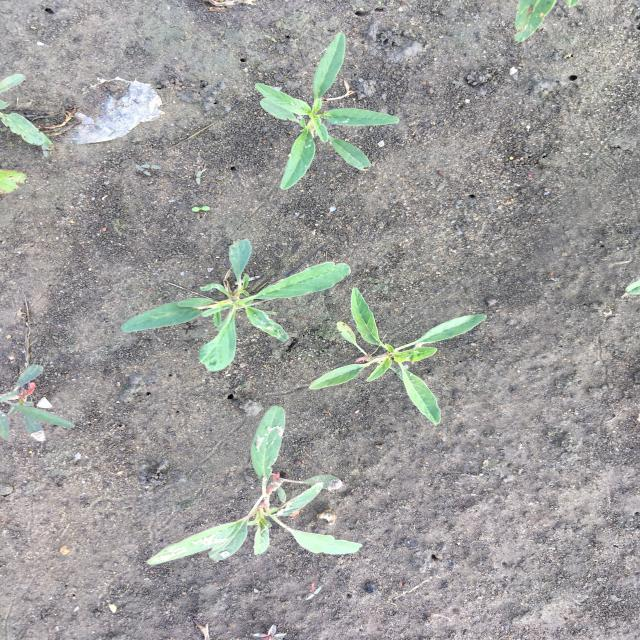Waterhemp: (143, 404, 366, 566), (118, 236, 354, 375), (308, 284, 490, 426), (250, 29, 402, 192), (1, 364, 80, 446)
